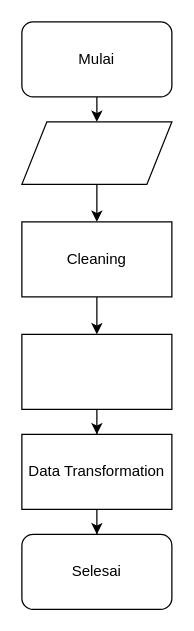
Image size: 194x631. Some labels were removed from this diagram. Here are the shapes that lost their labels. From the top down, the centre of each, then its label:
At (96,152): "Data Setelah Preprocessing".
At (96,371): "Feature Engineering".
